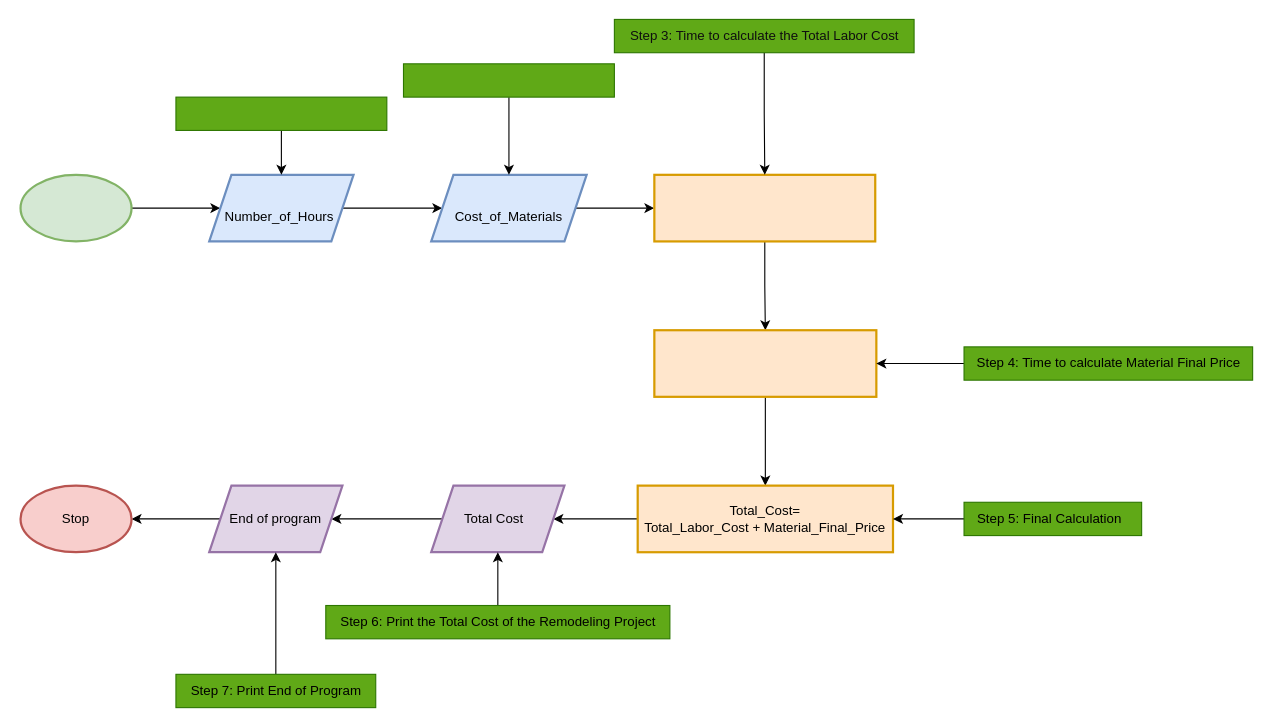
The diagram is 1272 pixels wide and 727 high, and some of its shapes have lost their labels. The shapes that lost their labels are listed below. From the top down, each one's centre as x and y in pixels, then its label:
pixel 508 80: Step 2: Introduce Material Cost
pixel 281 113: Step 1: Input Number of Hours
pixel 75 207: Start
pixel 764 207: Total_Labor_Cost= Number_of_hours * 30
pixel 765 363: Material _Final_Price= Cost_of_Materials * 1.2
